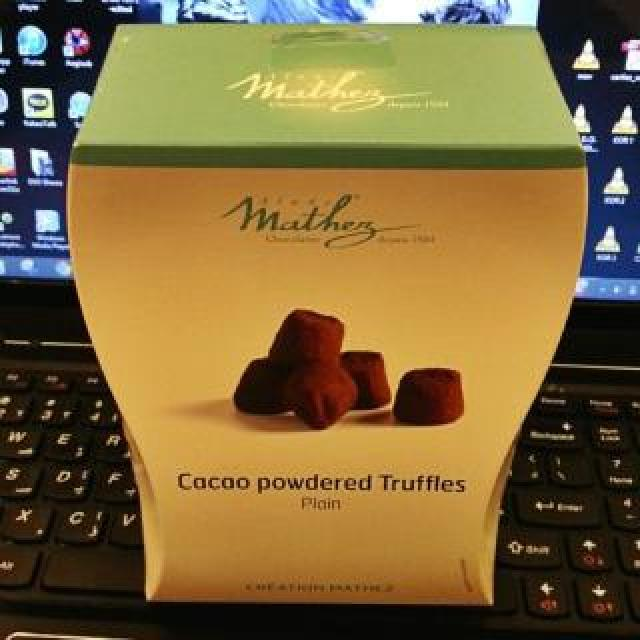laptop_computer: (6, 1, 640, 640)
